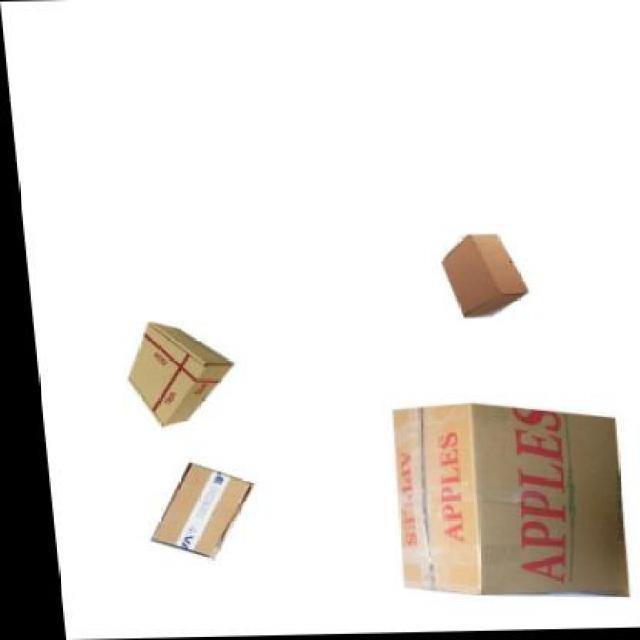box: (378, 403, 619, 601), (112, 319, 225, 426), (134, 462, 246, 560), (429, 236, 522, 316)
